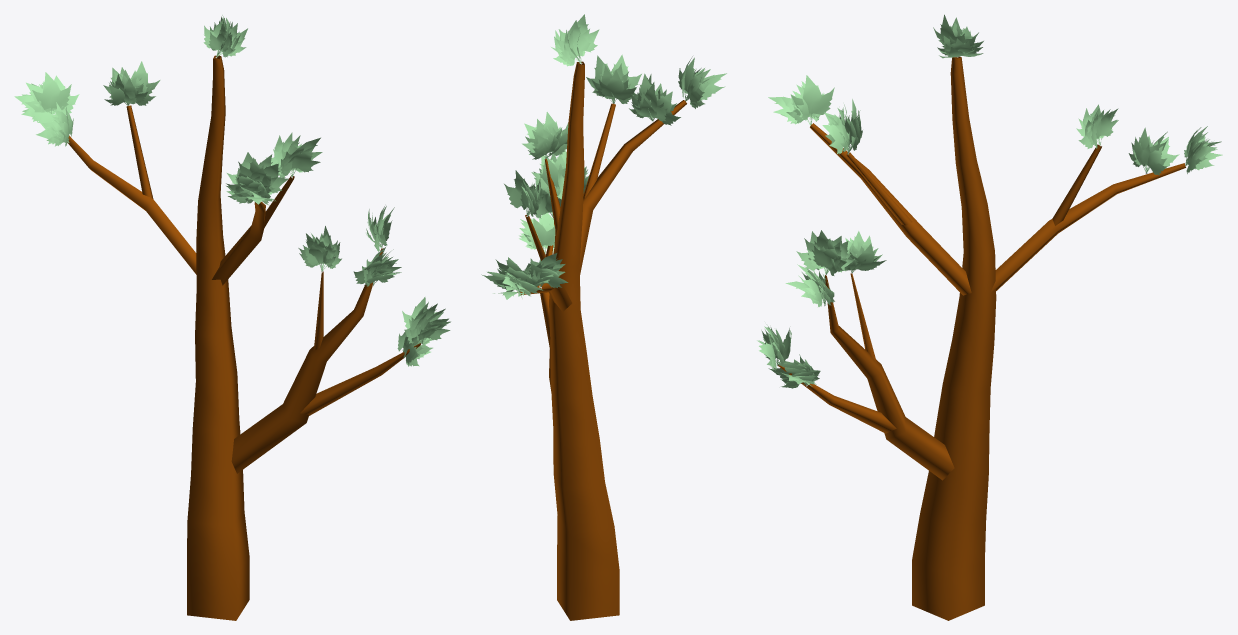
File: FinalTree18.fbx
3 renders of one model, left to right at view 1: azimuth 30°, elevation 25°; view 2: azimuth 150°, elevation 25°; view 3: azimuth 270°, elevation 25°, orthographic.
Parts seen in each view (by area): view 1: Árbol, Hojas|palmate.003|Dupli|23; view 2: Árbol, Hojas|palmate.003|Dupli|85, Hojas|palmate.003|Dupli|40, Hojas|palmate.003|Dupli|, Hojas|palmate.003|Dupli|140, Hojas|palmate.003|Dupli|31, Hojas|palmate.003|Dupli|4, Hojas|palmate.003|Dupli|82; view 3: Árbol, Hojas|palmate.003|Dupli|55.
Boxes of the visible parts, x1,y1,x2,y2 form: Árbol: (67,55,420,620); Hojas|palmate.003|Dupli|23: (32,72,71,113); Árbol: (517,61,686,620); Hojas|palmate.003|Dupli|85: (598,69,636,103); Hojas|palmate.003|Dupli|40: (504,170,536,215); Hojas|palmate.003|Dupli|: (556,20,590,63); Hojas|palmate.003|Dupli|140: (524,218,555,252); Hojas|palmate.003|Dupli|31: (528,262,568,287); Hojas|palmate.003|Dupli|4: (558,14,599,62); Hojas|palmate.003|Dupli|82: (586,55,623,102); Árbol: (778,56,1185,620); Hojas|palmate.003|Dupli|55: (791,75,834,124).
Size of the model in its own units: 176 by 442 by 315.
